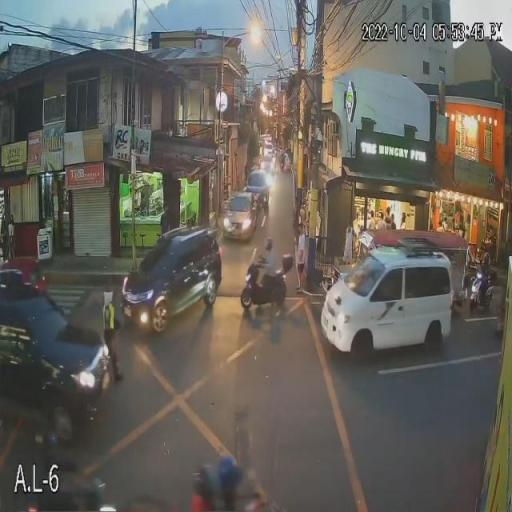helmet: (208, 456, 238, 483), (264, 238, 274, 248)
motorcycle: (240, 253, 294, 313), (462, 254, 494, 310)
rider: (191, 456, 261, 512), (247, 238, 284, 299), (468, 241, 491, 284)
